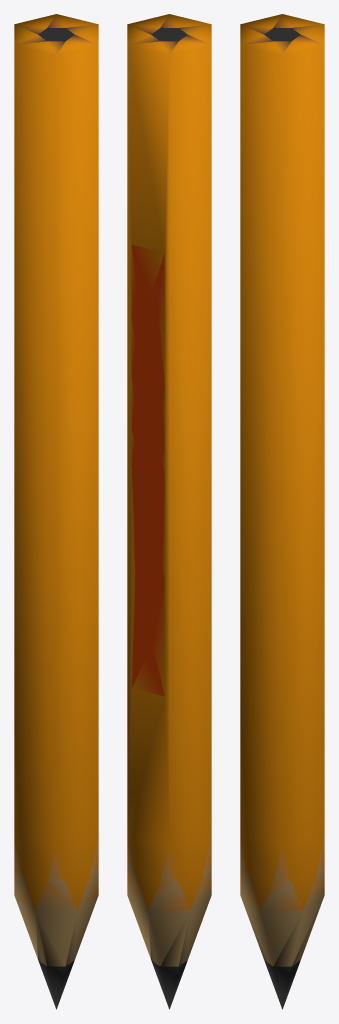
Rendered from Pencil.fbx.
3 views of the same model, side by side, from view 1: azimuth 90°, elevation 25°; view 2: azimuth 150°, elevation 25°; view 3: azimuth 270°, elevation 25° (orthographic).
Visible parts, largest first — view 1: Pencil.002; view 2: Pencil.002; view 3: Pencil.002.
Part boxes in pixels (left/top/right/bottom): Pencil.002: left=14, top=14, right=98, bottom=1009; Pencil.002: left=127, top=14, right=211, bottom=1009; Pencil.002: left=240, top=14, right=324, bottom=1009.
Bounding box in the file's own units: 2 × 22.04 × 1.73.
